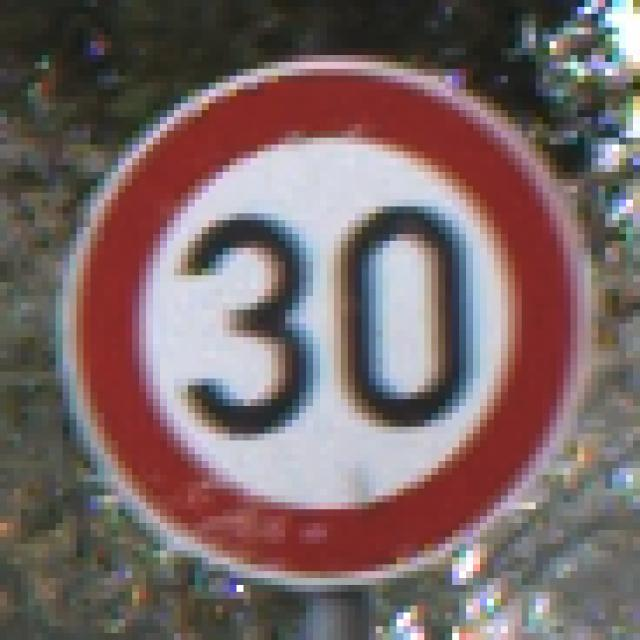Speed Limit -30-: (52, 51, 581, 582)
